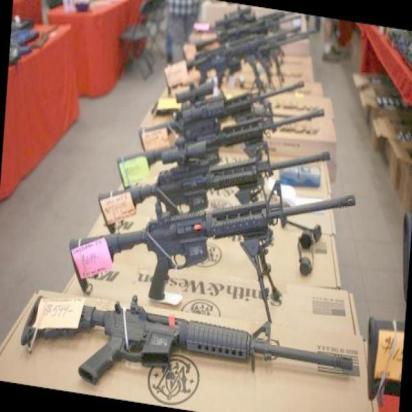Gun: (25, 292, 352, 384), (74, 192, 352, 295)
